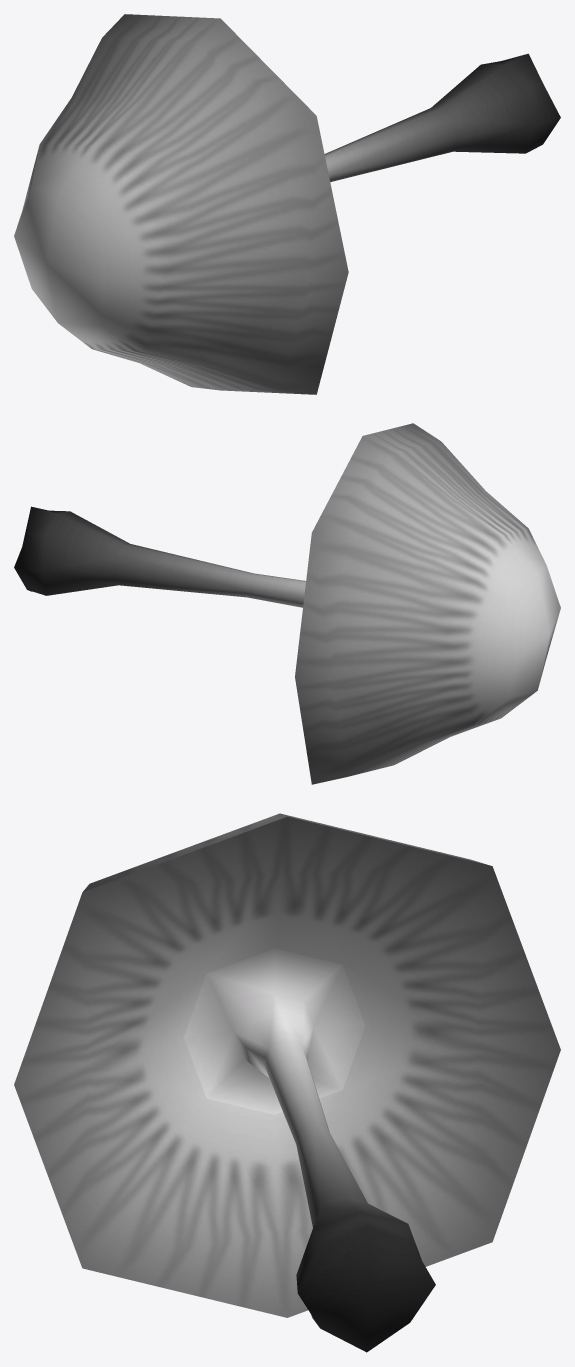
The model's file is MushroomHand.fbx.
3 views of the same model, one above another, from view 1: azimuth 30°, elevation 25°; view 2: azimuth 150°, elevation 25°; view 3: azimuth 270°, elevation 25° (orthographic). The views are drawn at different scales.
Visible parts, largest first — view 1: Mushroom; view 2: Mushroom; view 3: Mushroom.
Part boxes in pixels (left/top/right/bottom): Mushroom: left=14, top=14, right=560, bottom=394; Mushroom: left=14, top=423, right=560, bottom=784; Mushroom: left=14, top=813, right=560, bottom=1352.
Size of the model in its own units: 1.11 by 0.7369 by 0.7286.
